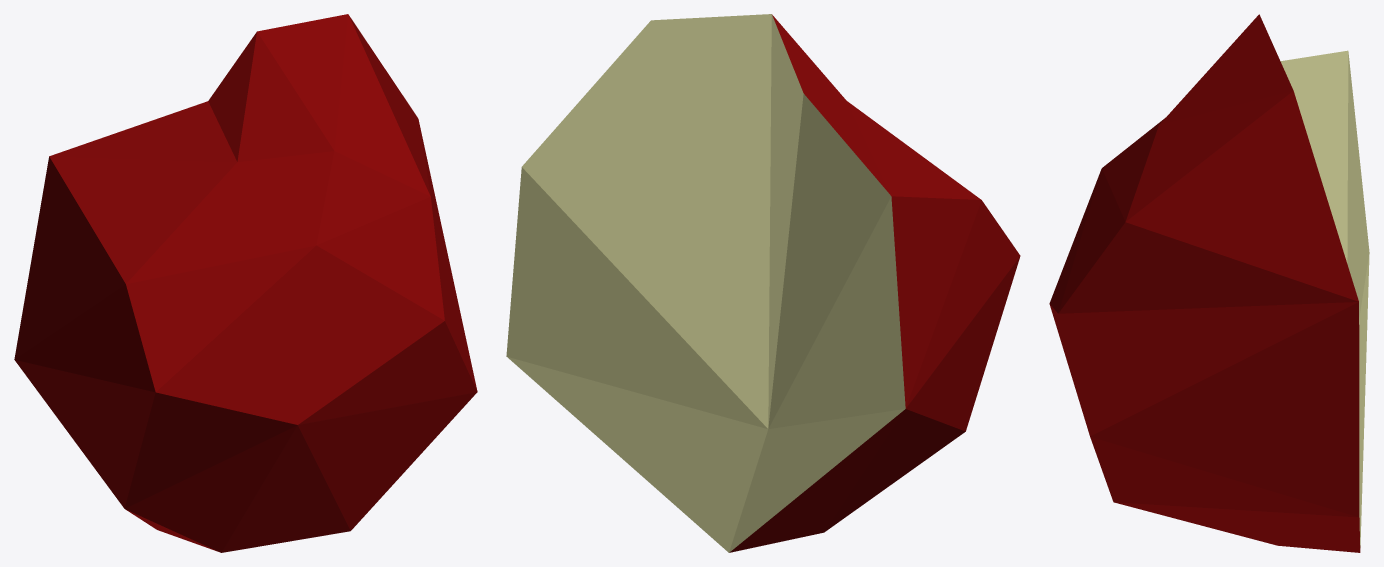
The model's file is sliced_apple_2.fbx.
The picture shows the model from 3 angles, left to right: view 1: azimuth 30°, elevation 25°; view 2: azimuth 150°, elevation 25°; view 3: azimuth 270°, elevation 25°; orthographic projection. The views are drawn at different scales.
Visible parts, largest first — view 1: Apple_0_7; view 2: Apple_0_7; view 3: Apple_0_7.
Boxes of the visible parts, x1=… form: Apple_0_7: x1=14, y1=14, x2=477, y2=552; Apple_0_7: x1=506, y1=14, x2=1020, y2=552; Apple_0_7: x1=1049, y1=14, x2=1369, y2=552.
Size of the model in its own units: 13.4 by 15.96 by 8.56.
